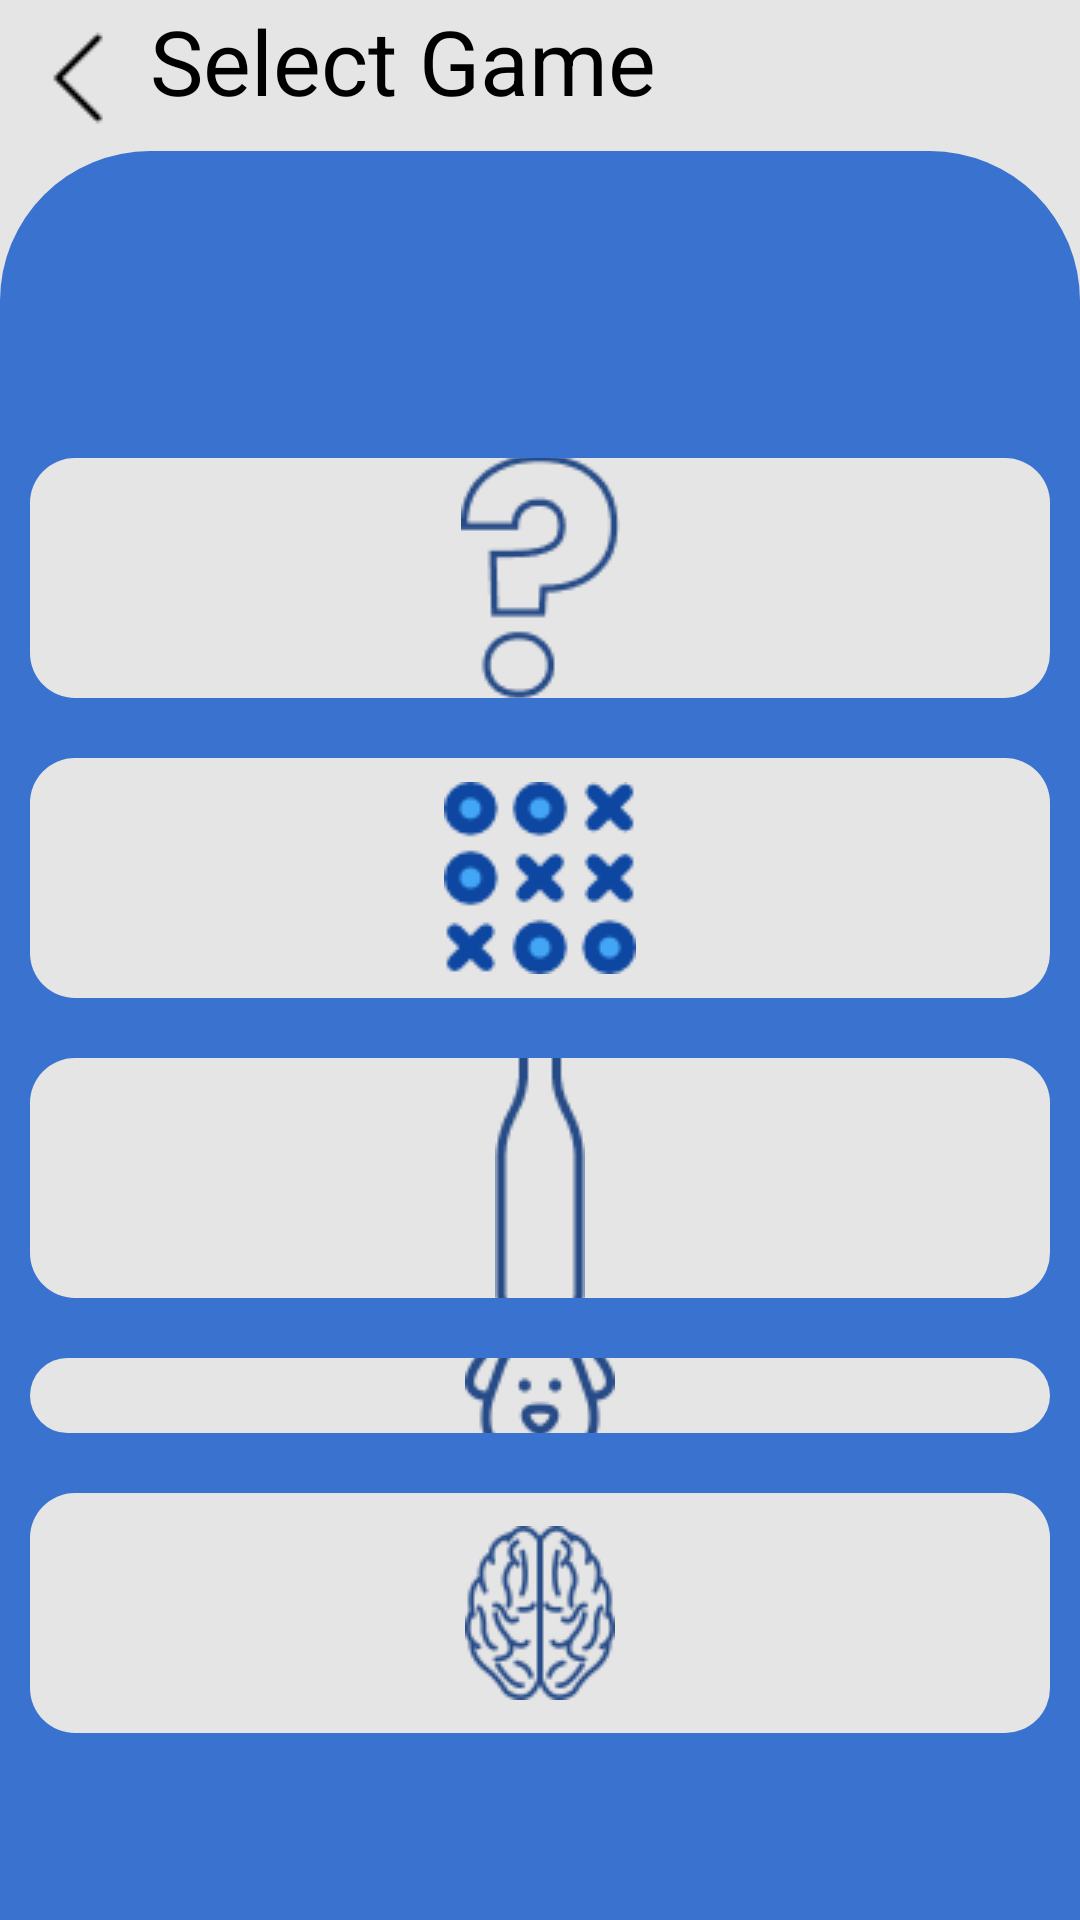

Where icons sit on this 1080px×1920px app screen, as (x1, y1, x2, y2):
back: (53, 33, 103, 123)
